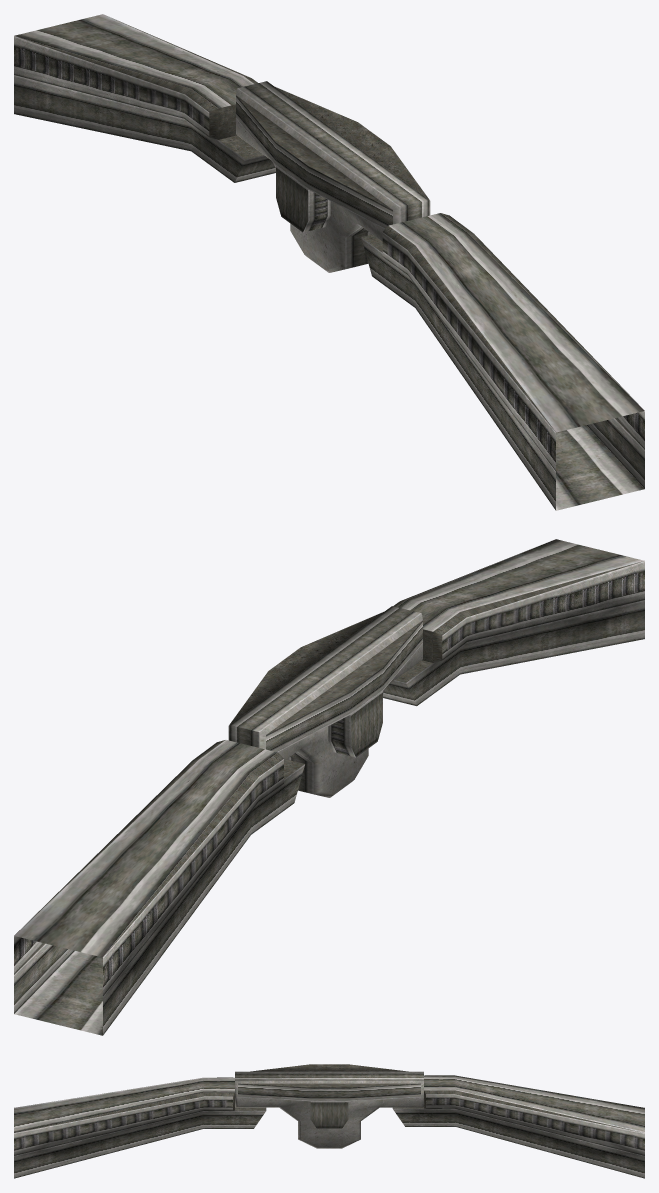
File: DWARF_PALACE_MAINHALL_COLUMN_DEBREE04.fbx
3 renders of one model, top to bottom at view 1: azimuth 30°, elevation 25°; view 2: azimuth 150°, elevation 25°; view 3: azimuth 270°, elevation 25°, orthographic. The views are drawn at different scales.
Parts seen in each view (by area): view 1: DWARF_PALACE_MAINHALL_COLUMN_DEBREE04; view 2: DWARF_PALACE_MAINHALL_COLUMN_DEBREE04; view 3: DWARF_PALACE_MAINHALL_COLUMN_DEBREE04.
Boxes of the visible parts, <box> form: DWARF_PALACE_MAINHALL_COLUMN_DEBREE04: <box>14,14,644,510</box>; DWARF_PALACE_MAINHALL_COLUMN_DEBREE04: <box>14,539,644,1035</box>; DWARF_PALACE_MAINHALL_COLUMN_DEBREE04: <box>14,1064,644,1178</box>.
Size of the model in its own units: 23896 by 40000 by 251080.
4 materials, 4 textured.
